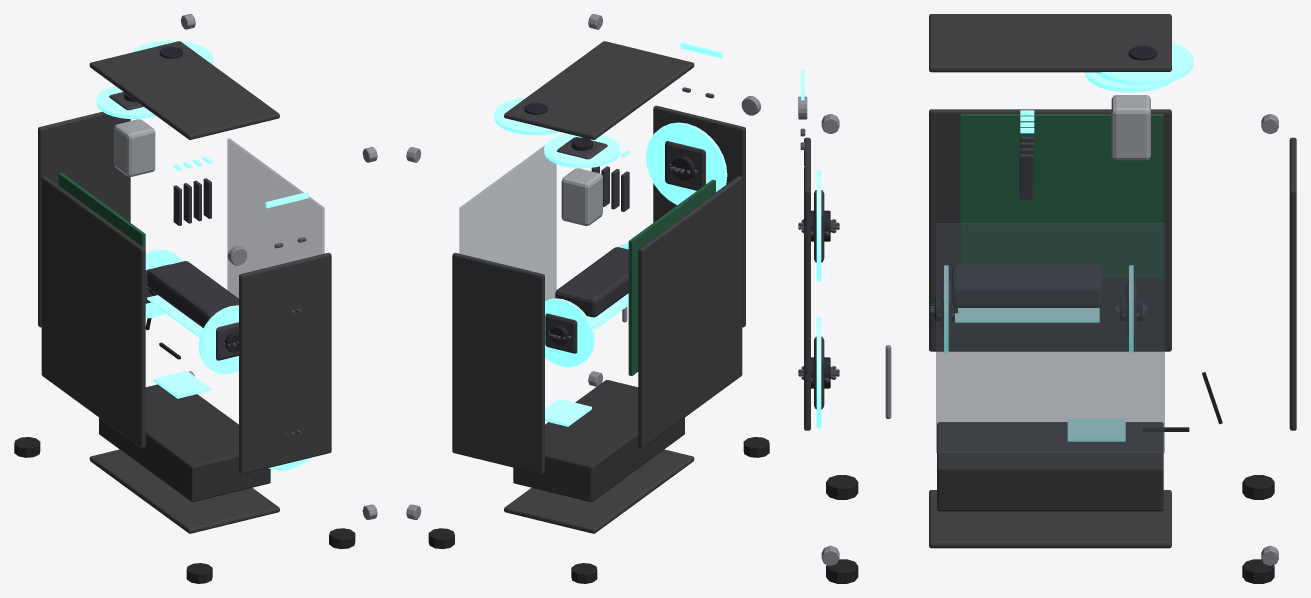
3 renders of one model, left to right at view 1: azimuth 30°, elevation 25°; view 2: azimuth 150°, elevation 25°; view 3: azimuth 270°, elevation 25°, orthographic. The views are drawn at different scales.
Visible parts, largest first — view 1: Cube.002, Cube.004, Cube.006, Cube.001, Cube.005, Cube.003, Cube, Cube.026, Cube.009, Cylinder.010, Cube.008, Cube.007 (+8 smaller); view 2: Cube.002, Cube.003, Cube.006, Cube.001, Cube.005, Cube, Cube.004, Cylinder.016, Cube.026, Cube.008, Cube.009, Cylinder.012 (+10 smaller); view 3: Cube.005, Cube.008, Cube.006, Cube.002, Cube.001, Cube, Cube.026, Cube.009, Cube.003, Cube.027, Cube.004, Cylinder.018 (+9 smaller).
Boxes of the visible parts, x1,y1,x2,y2 form: Cube.002: (41,176,145,448); Cube.004: (239,252,331,474); Cube.006: (99,384,270,501); Cube.001: (89,41,279,139); Cube.005: (227,138,324,298); Cube.003: (38,111,130,327); Cube: (89,449,279,533); Cube.026: (147,261,238,327); Cube.009: (114,119,155,176); Cylinder.010: (198,305,238,374); Cube.008: (58,172,145,249); Cube.007: (153,370,210,398); Cube.002: (638,176,742,448); Cube.003: (452,252,544,474); Cube.006: (513,380,684,501); Cube.001: (504,41,694,139); Cube.005: (459,145,556,300); Cube: (504,449,694,533); Cube.004: (653,105,745,327); Cylinder.016: (646,122,727,205); Cube.026: (555,247,628,317); Cube.008: (628,179,715,375); Cube.009: (561,168,602,225); Cylinder.012: (545,298,594,367); Cube.005: (936,223,1164,452); Cube.008: (960,114,1163,278); Cube.006: (937,422,1163,511); Cube.002: (929,109,1171,351); Cube.001: (929,14,1171,72); Cube: (929,490,1171,548); Cube.026: (952,264,1102,307); Cube.009: (1111,95,1150,160); Cube.003: (1289,137,1296,430); Cube.027: (955,308,1099,322); Cube.004: (804,137,810,430); Cylinder.018: (1096,42,1193,85).
Bounding box in the file's own units: 1.16 × 2.38 × 2.15.
